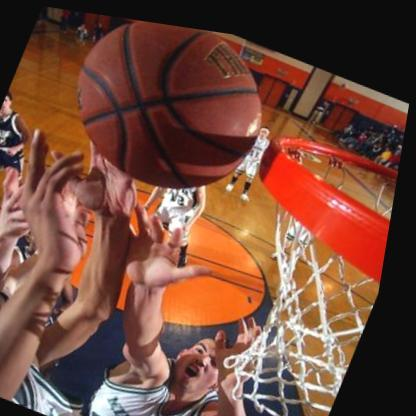basketball: (47, 8, 292, 214)
rim: (236, 111, 406, 276)
